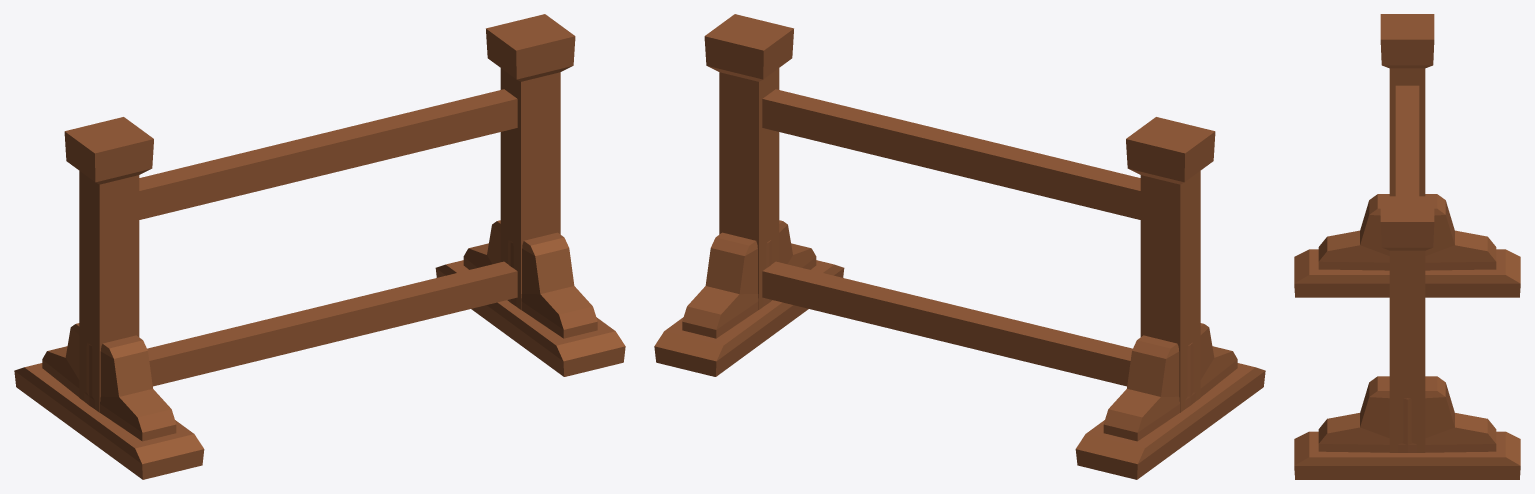
File: WeaponRack_A.fbx
The picture shows the model from 3 angles, left to right: view 1: azimuth 30°, elevation 25°; view 2: azimuth 150°, elevation 25°; view 3: azimuth 270°, elevation 25°; orthographic projection. The views are drawn at different scales.
Parts seen in each view (by area): view 1: WeaponRack_A; view 2: WeaponRack_A; view 3: WeaponRack_A.
Part boxes in pixels (box(x1,y1,x2,y2)): WeaponRack_A: box(14, 14, 625, 479); WeaponRack_A: box(654, 14, 1265, 479); WeaponRack_A: box(1294, 14, 1520, 479).
Size of the model in its own units: 140 by 80.82 by 64.33.
